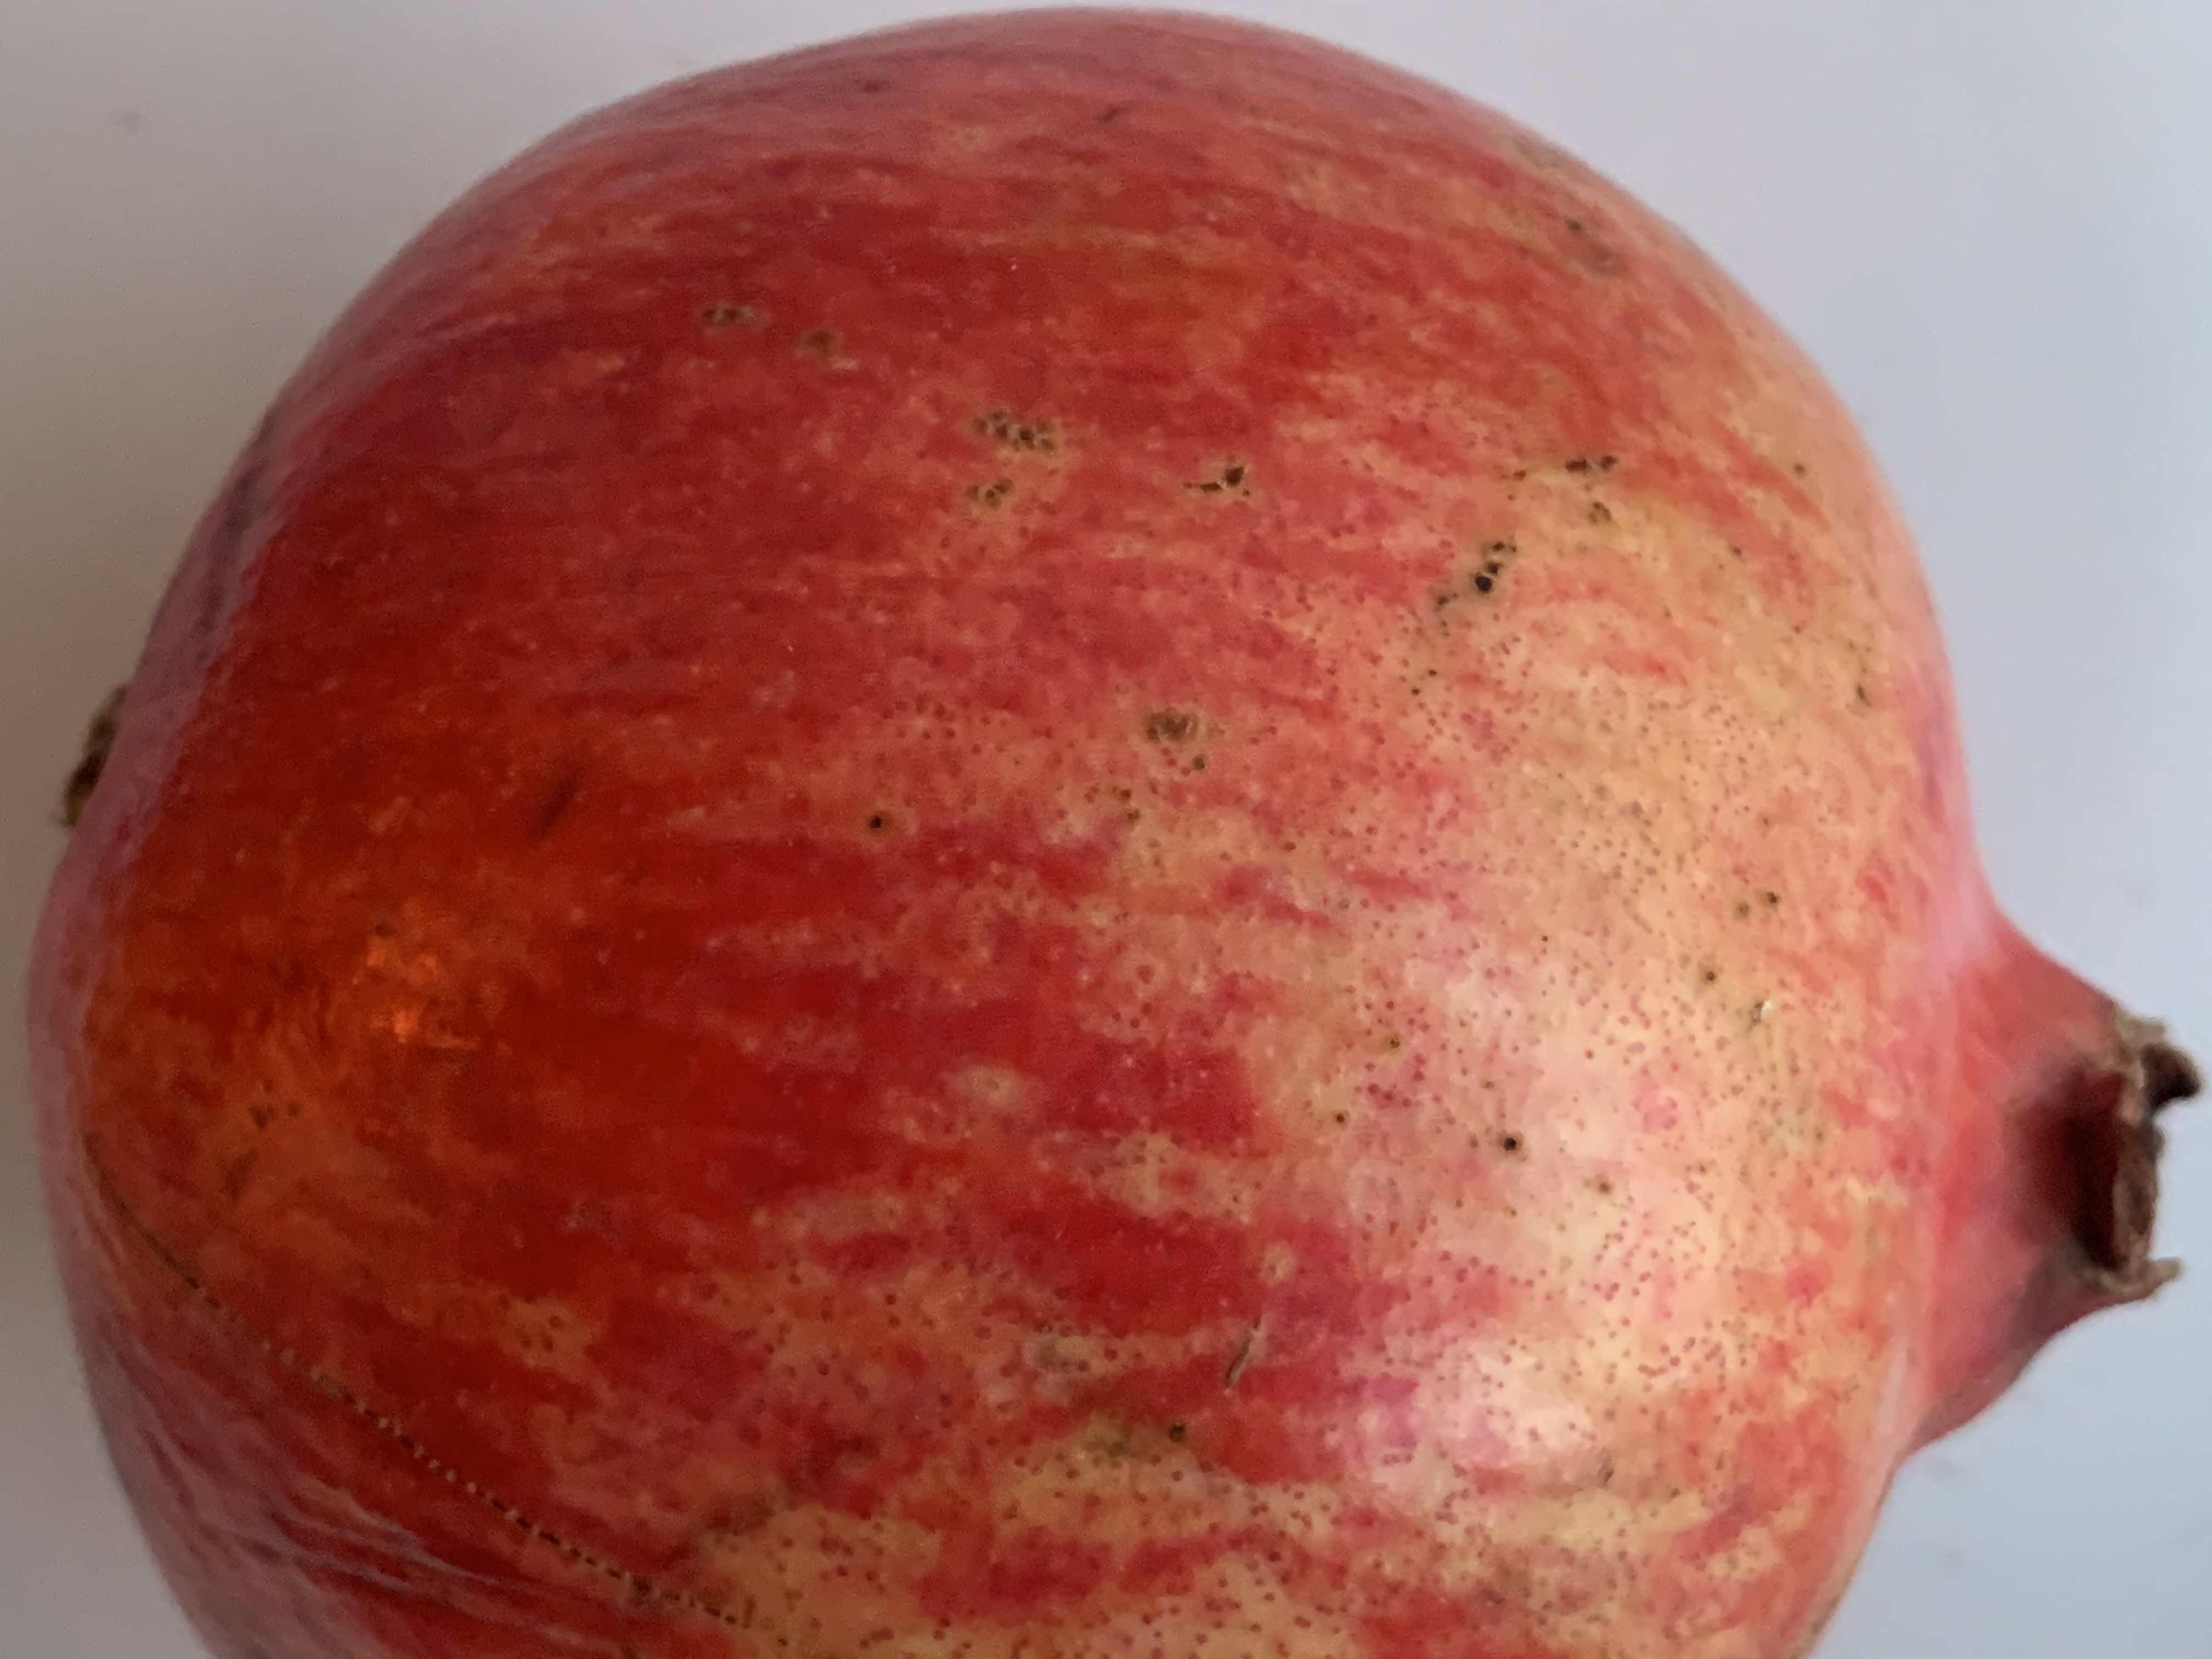Pomegranate: (31, 16, 2189, 1659)
